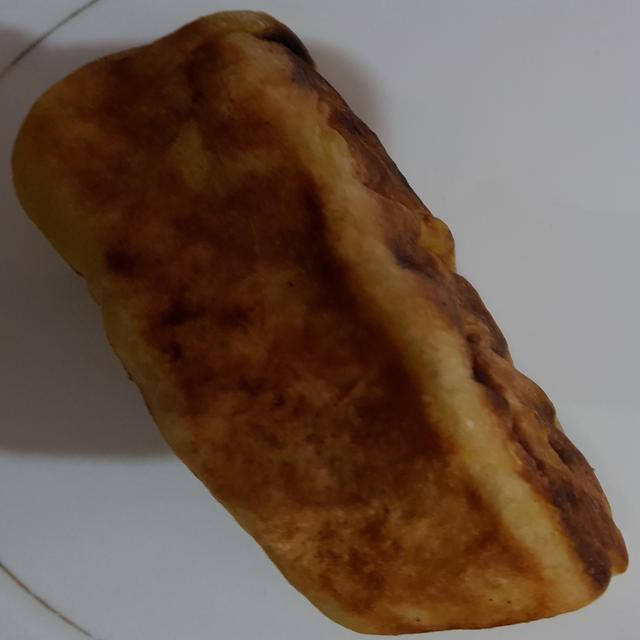Chicken Rotti: (11, 8, 631, 636)
